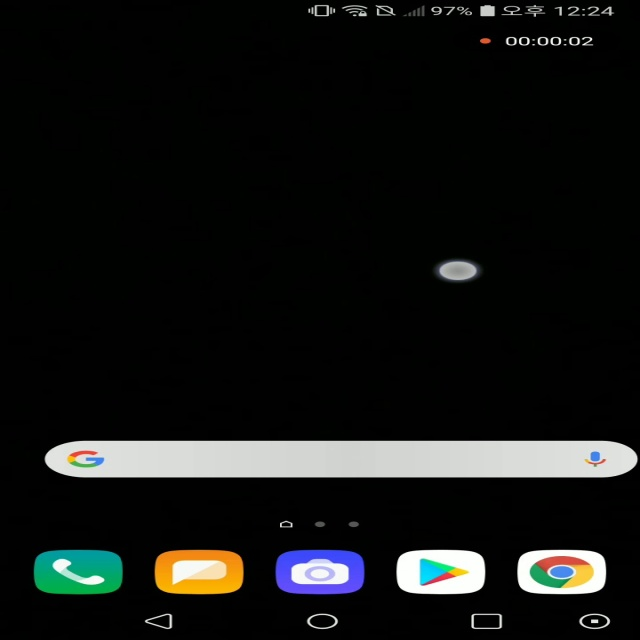Cursor: (437, 260, 481, 283)
